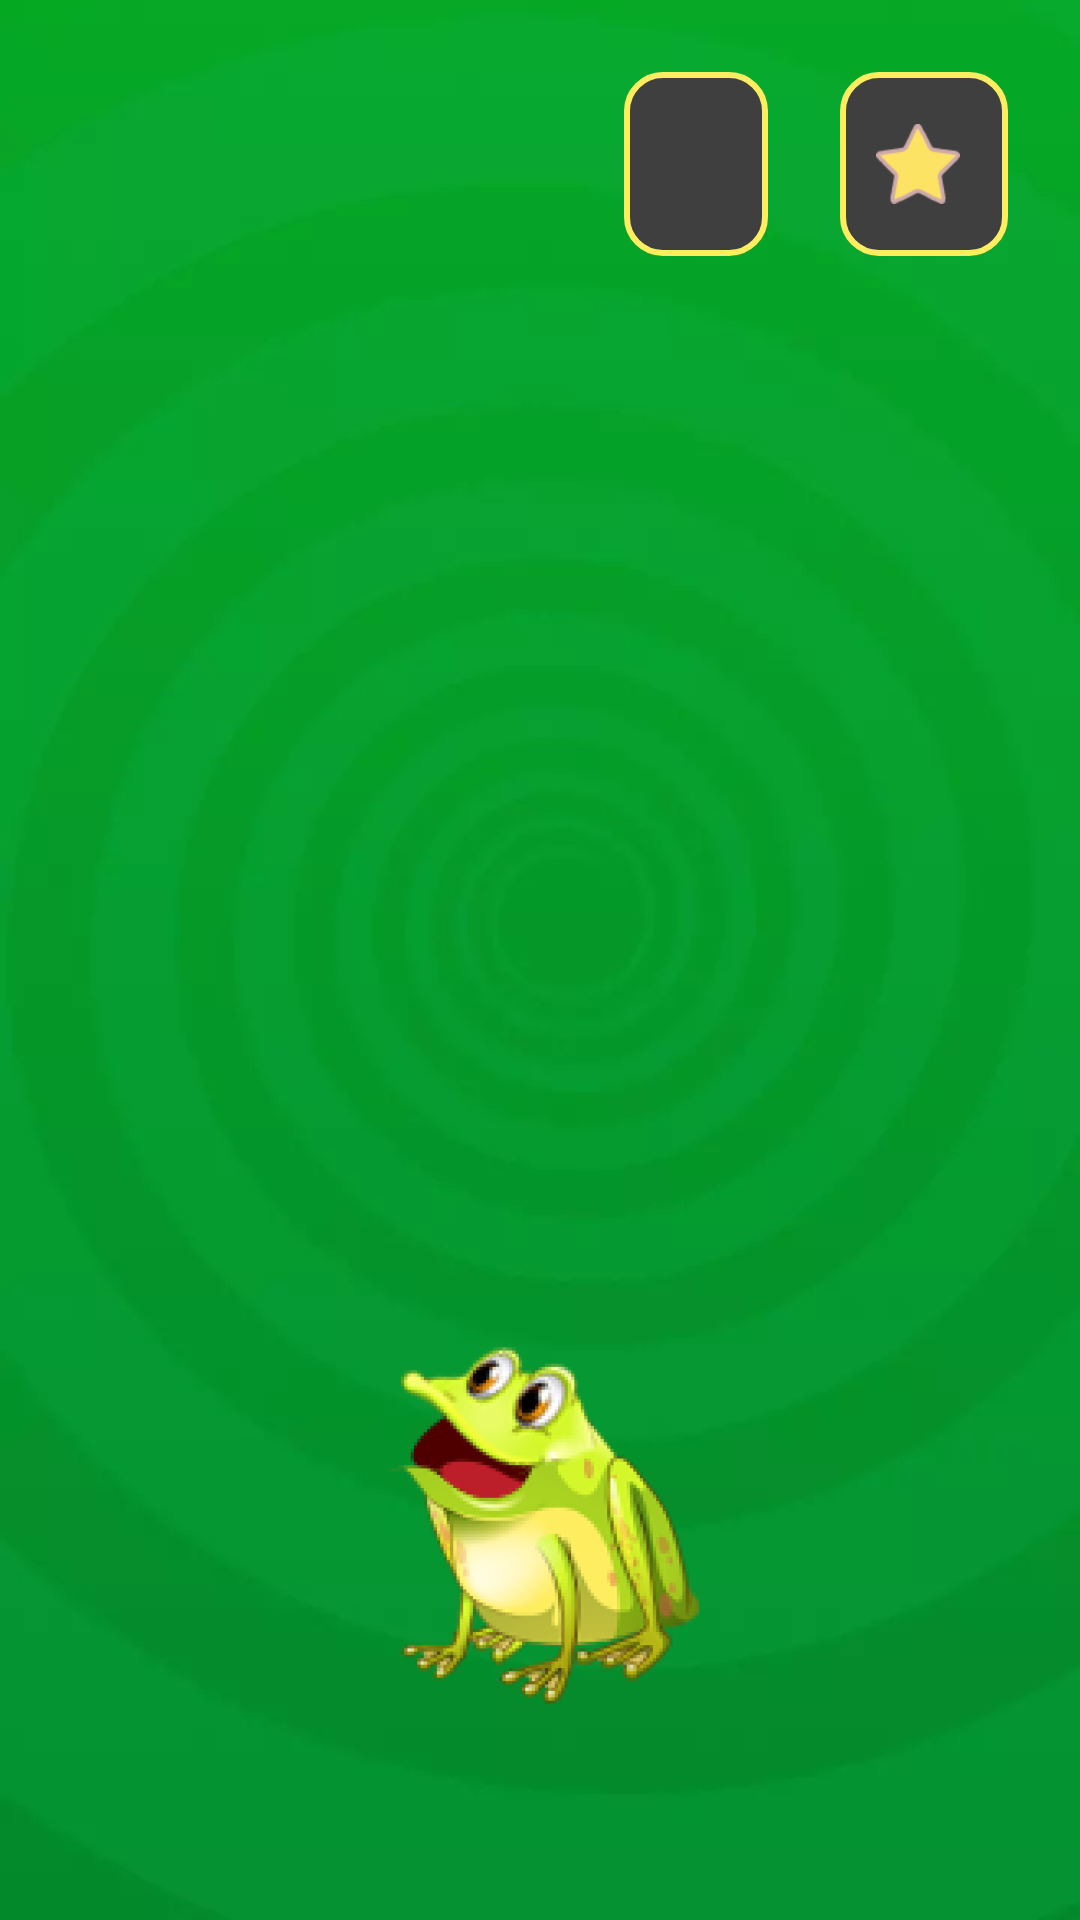

Where to tap for icons on this 1080×1920 app screen, as [x,y]:
frog: [546,1525]
star: [918,164]
